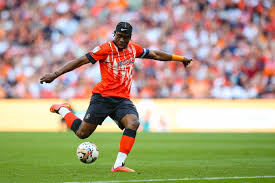football ball: (75, 141, 103, 164)
